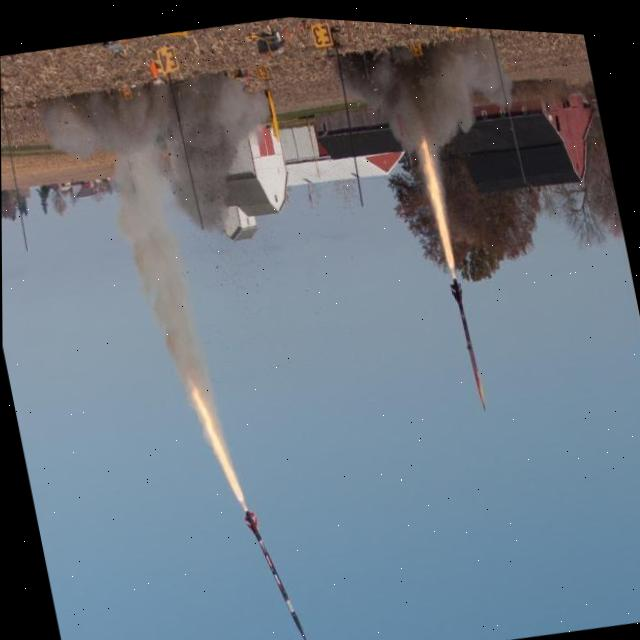missile: (238, 502, 307, 640), (443, 259, 495, 412)
